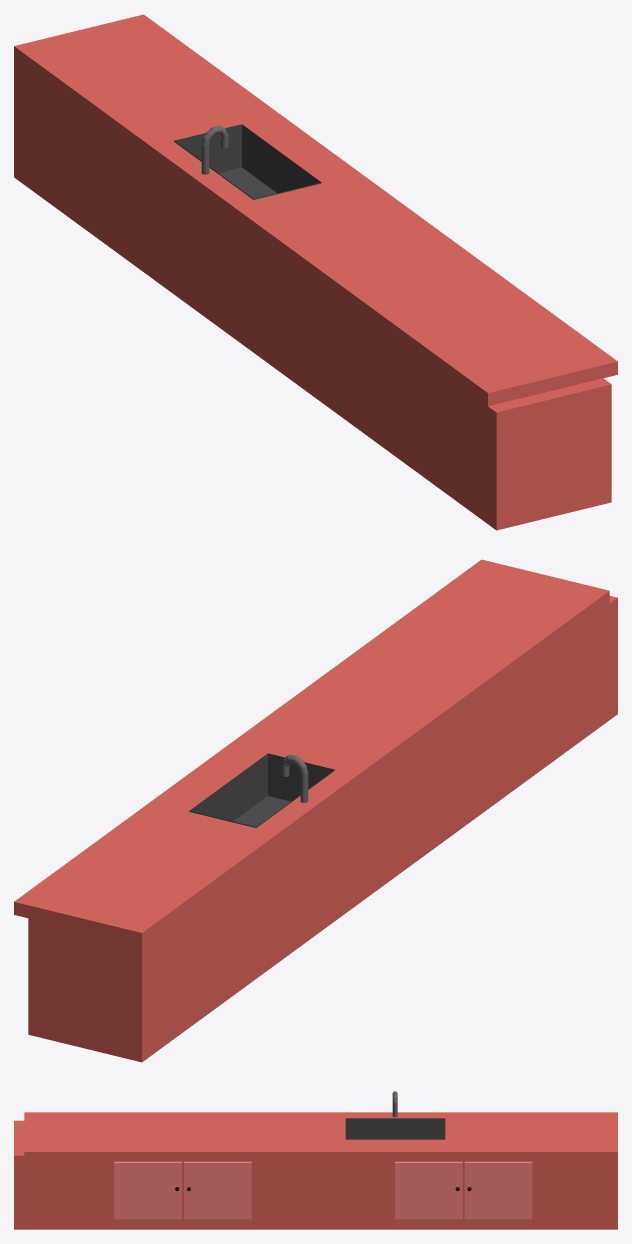
File: Bench 2.fbx
3 views of the same model, one above another, from view 1: azimuth 30°, elevation 25°; view 2: azimuth 150°, elevation 25°; view 3: azimuth 270°, elevation 25° (orthographic). The views are drawn at different scales.
Parts seen in each view (by area): view 1: Cube, Cube.005; view 2: Cube, Cube.005; view 3: Cube, Cube.003, Cube.004, Cube.001, Cube.002, Cube.005.
Boxes of the visible parts, x1,y1,x2,y2 form: Cube: [14, 14, 617, 530]; Cube.005: [174, 124, 321, 199]; Cube: [14, 559, 617, 1062]; Cube.005: [189, 753, 334, 827]; Cube: [14, 1112, 617, 1229]; Cube.003: [464, 1161, 532, 1219]; Cube.004: [395, 1161, 462, 1219]; Cube.001: [114, 1161, 181, 1219]; Cube.002: [184, 1161, 251, 1219]; Cube.005: [345, 1118, 445, 1139].
Bounding box in the file's own units: 342 × 440 × 2199.
